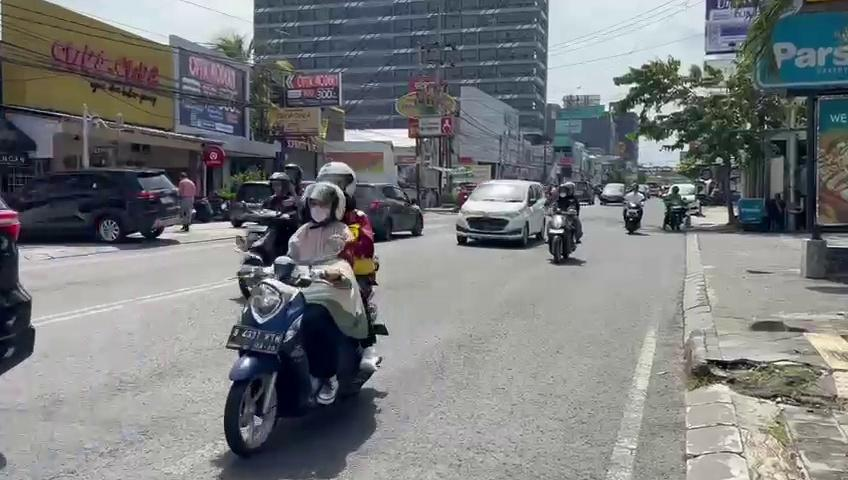helm: (297, 179, 351, 233)
riding: (217, 151, 393, 469)
